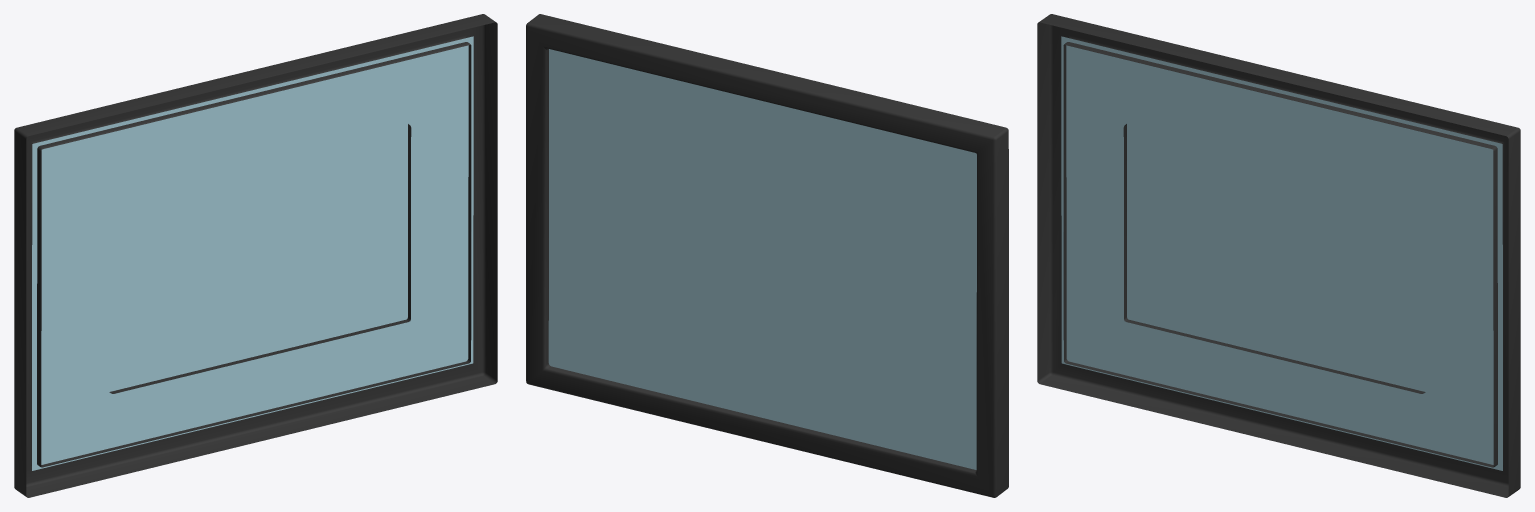
Rendered from VP_Picture_Frames_01.FBX.
3 renders of one model, left to right at view 1: azimuth 30°, elevation 25°; view 2: azimuth 150°, elevation 25°; view 3: azimuth 330°, elevation 25°, orthographic.
Parts seen in each view (by area): view 1: VP_Picture_Frames_01; view 2: VP_Picture_Frames_01; view 3: VP_Picture_Frames_01.
Boxes of the visible parts, x1,y1,x2,y2 form: VP_Picture_Frames_01: (14,14,497,497); VP_Picture_Frames_01: (526,14,1008,497); VP_Picture_Frames_01: (1037,14,1520,497).
Size of what is drawn, in the model's own units: 79.35 by 3.95 by 58.26.
